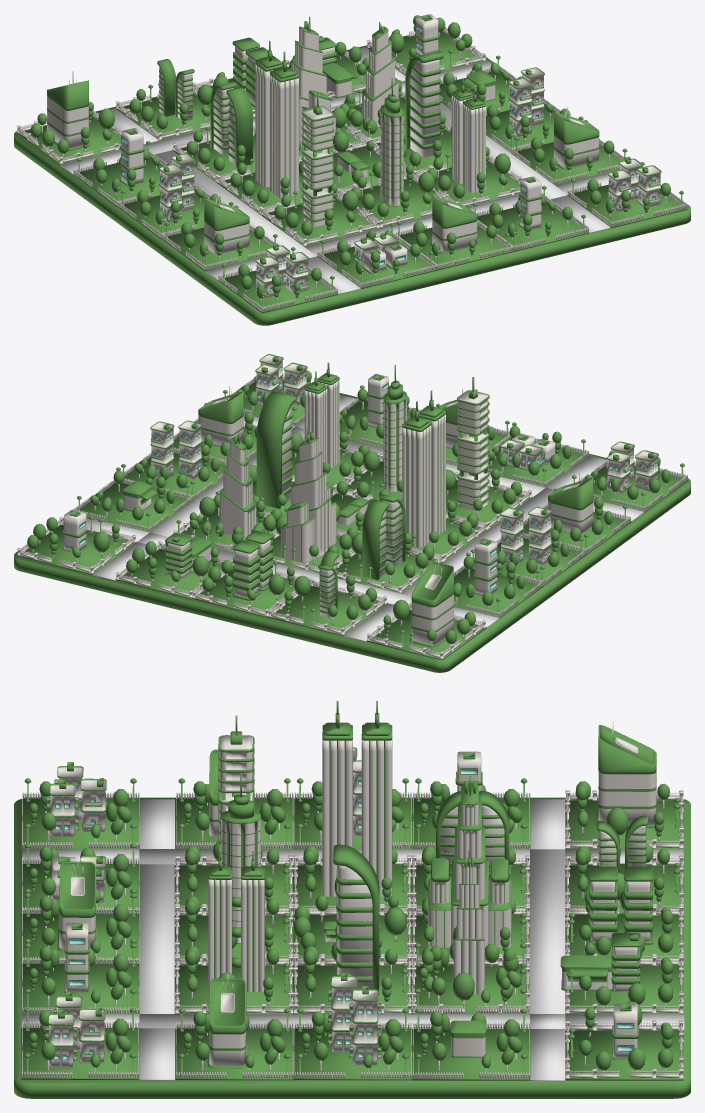
File: cartoon_buildings-transformed.glb
3 views of the same model, one above another, from view 1: azimuth 30°, elevation 25°; view 2: azimuth 150°, elevation 25°; view 3: azimuth 270°, elevation 25° (orthographic). The views are drawn at different scales.
Parts seen in each view (by area): view 1: b_skyscaper01, road.008, b_house01_L; view 2: b_skyscaper01, road.008, b_house01_L; view 3: b_skyscaper01, road.008, b_house01_L.
Part boxes in pixels (<box>): b_skyscaper01: <box>14,14,690,325</box>; road.008: <box>60,47,619,294</box>; b_house01_L: <box>122,26,654,290</box>; b_skyscaper01: <box>14,354,690,672</box>; road.008: <box>63,395,643,641</box>; b_house01_L: <box>79,366,656,588</box>; b_skyscaper01: <box>14,701,690,1098</box>; road.008: <box>21,799,684,1081</box>; b_house01_L: <box>54,769,633,1059</box>.
Size of the model in its own units: 114 by 38.38 by 114.
